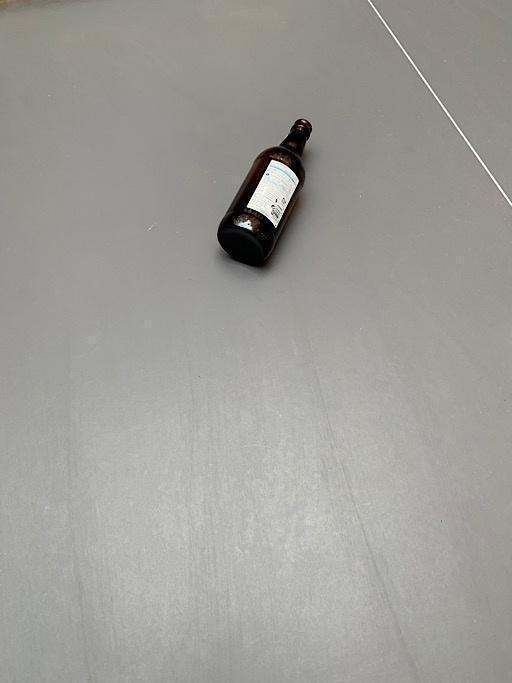bottle-glass: (215, 117, 318, 267)
